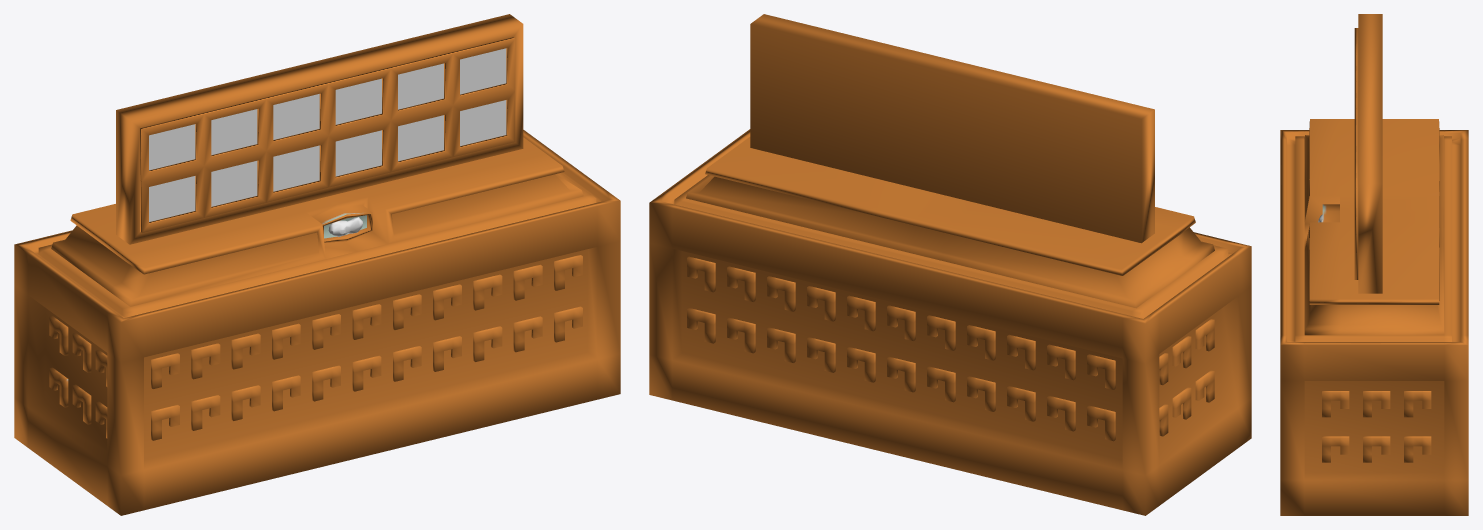
The model's file is Mesa_ConPanel.glb.
3 views of the same model, side by side, from view 1: azimuth 30°, elevation 25°; view 2: azimuth 150°, elevation 25°; view 3: azimuth 270°, elevation 25° (orthographic). The views are drawn at different scales.
Visible parts, largest first — view 1: Mesa, Panel_Trasero, B3, A1, A2, A4, B6, A3, A6, B1, B2, B4 (+2 smaller); view 2: Mesa, Panel_Trasero; view 3: Mesa, Panel_Trasero.
Boxes of the visible parts, x1,y1,x2,y2 form: Mesa: (14, 130, 620, 515); Panel_Trasero: (116, 14, 523, 244); B3: (273, 145, 319, 191); A1: (149, 124, 195, 170); A2: (211, 109, 257, 155); A4: (335, 78, 381, 124); B6: (460, 100, 506, 146); A3: (273, 94, 319, 139); A6: (460, 48, 506, 94); B1: (149, 176, 195, 221); B2: (211, 161, 257, 206); B4: (335, 130, 381, 176); Mesa: (649, 129, 1251, 515); Panel_Trasero: (750, 14, 1154, 243); Mesa: (1280, 119, 1468, 515); Panel_Trasero: (1354, 14, 1382, 293).
Bounding box in the file's own units: 2.68 × 1.8 × 0.9903.
Materials: 2 (1 with a texture image).
